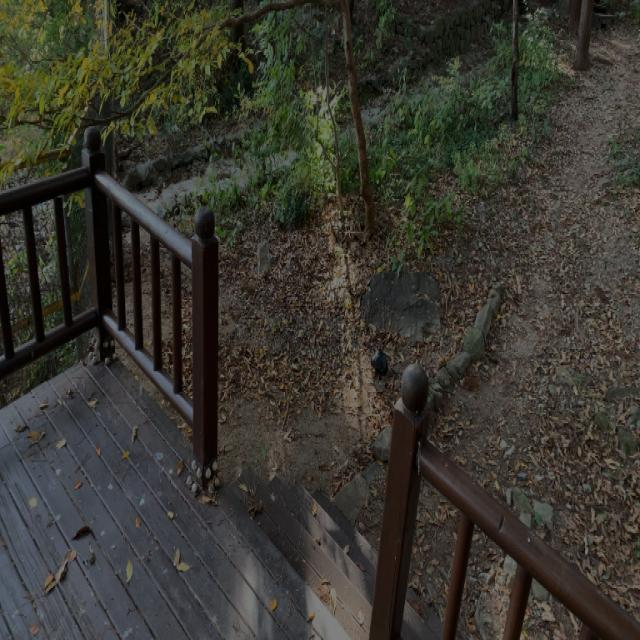Trashbag: (368, 347, 392, 376)
